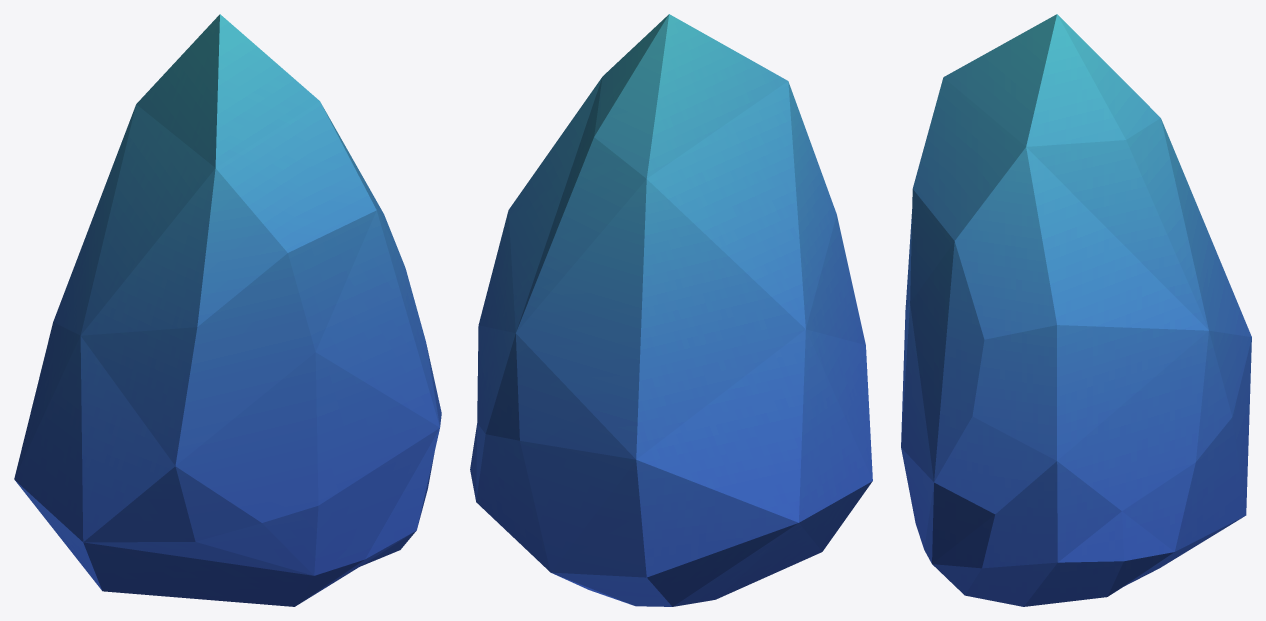
The model's file is Waterdrop_001.FBX.
3 renders of one model, left to right at view 1: azimuth 30°, elevation 25°; view 2: azimuth 150°, elevation 25°; view 3: azimuth 270°, elevation 25°, orthographic. The views are drawn at different scales.
Parts seen in each view (by area): view 1: waterdrop_01; view 2: waterdrop_01; view 3: waterdrop_01.
Boxes of the visible parts, box(x1,y1,x2,y2) form: waterdrop_01: box(14, 14, 441, 606); waterdrop_01: box(470, 14, 872, 606); waterdrop_01: box(901, 14, 1251, 606).
Bounding box in the file's own units: 0.4158 × 0.624 × 0.3545.
